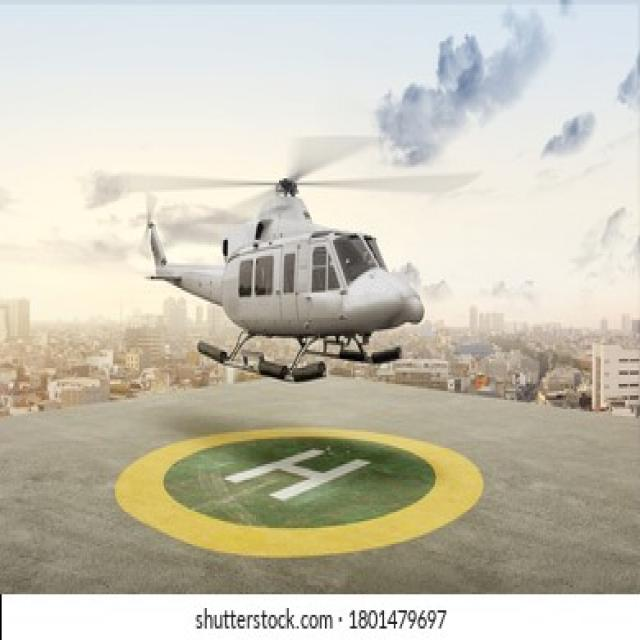helipad: (110, 418, 484, 560)
